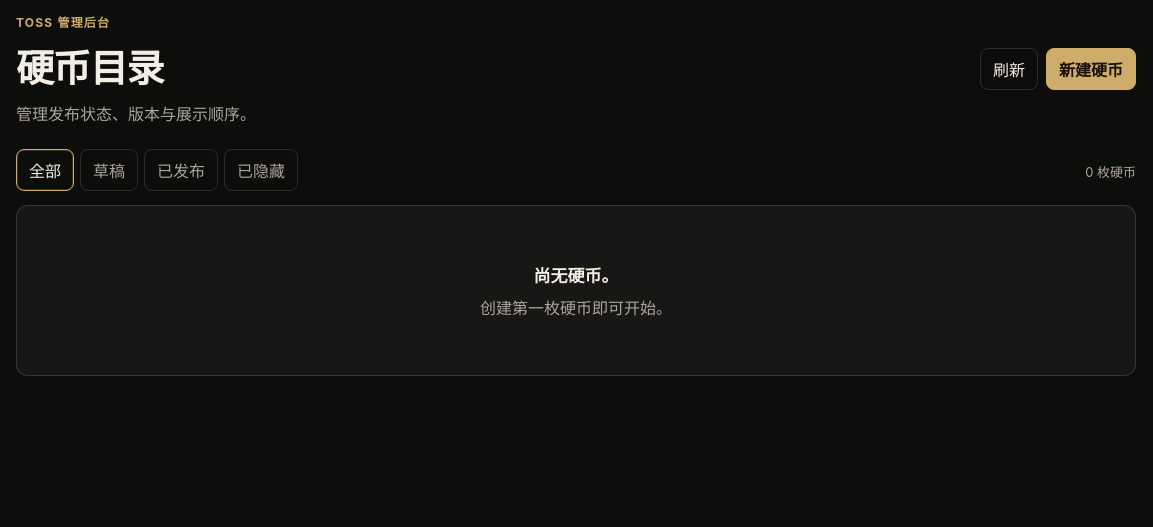
Test: CoinsView › expands Chinese creation controls with accessible labels
Click the button with test id "create-toggle" at coordinates (1091, 69), box top-left (1046, 48), bottom-right (1136, 90)
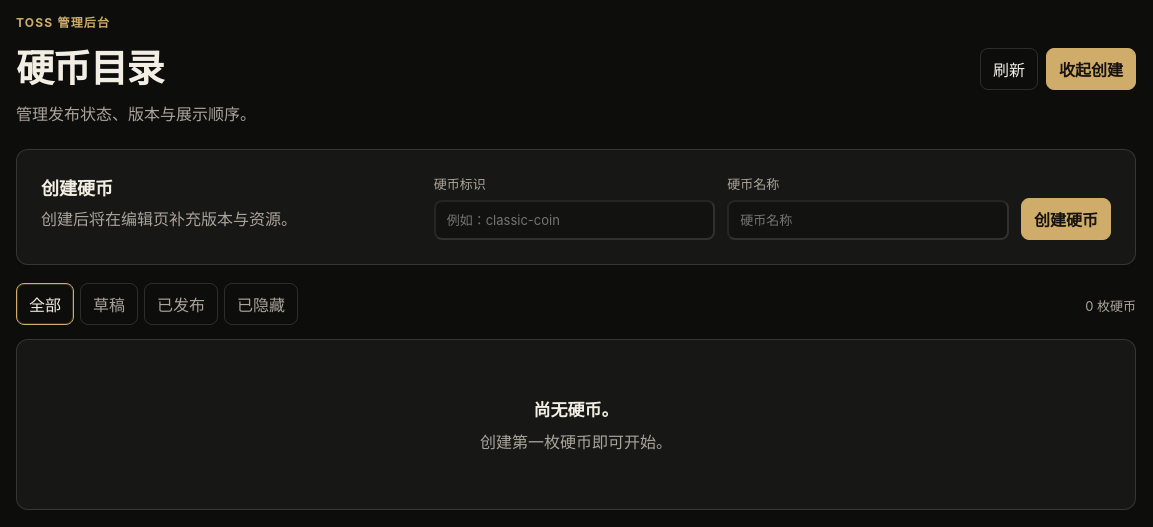
Expected: the text "创建硬币" is shown, top-left (41, 178), bottom-right (113, 199)
Expected: the field named "硬币标识" is shown, top-left (434, 200), bottom-right (715, 240)
Expected: the field named "硬币名称" is shown, top-left (727, 200), bottom-right (1009, 240)
